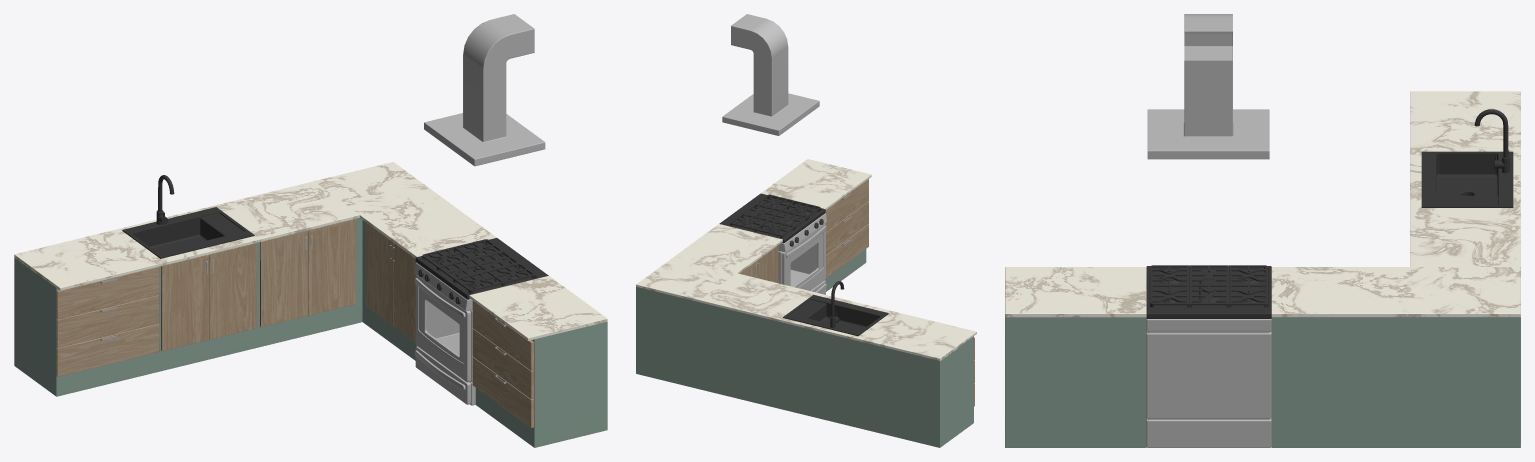
File: corner_kitchen_cabinet.glb
3 renders of one model, left to right at view 1: azimuth 30°, elevation 25°; view 2: azimuth 150°, elevation 25°; view 3: azimuth 270°, elevation 25°, orthographic. The views are drawn at different scales.
Visible parts, largest first — view 1: Cabinet for kitchen corner, stove-air, Door 2.001, Door 3.001, Door 2, Door 3, sink, Door 1, Door 1.002, stove-door, Door 1.001, stove-body.003 (+8 smaller); view 2: Cabinet for kitchen corner, stove-air, sink, stove-body.003, stove-body.001, stove-door, stove-body, Door 5, Door 5.002, Door 5.001, Door 4.001; view 3: Cabinet for kitchen corner, stove-body, stove-air, sink, stove-body.003, stove-body.001, stove-body.002.
Part boxes in pixels (left/top/right/bottom): Cabinet for kitchen corner: left=14, top=162, right=607, bottom=447; stove-air: left=424, top=14, right=545, bottom=166; Door 2.001: left=161, top=254, right=209, bottom=351; Door 3.001: left=308, top=219, right=355, bottom=315; Door 2: left=209, top=243, right=256, bottom=339; Door 3: left=260, top=230, right=307, bottom=327; sink: left=122, top=207, right=254, bottom=258; Door 1: left=56, top=323, right=159, bottom=376; Door 1.002: left=56, top=295, right=159, bottom=348; stove-door: left=414, top=275, right=470, bottom=382; Door 1.001: left=56, top=267, right=159, bottom=319; stove-body.003: left=415, top=238, right=548, bottom=299; Cabinet for kitchen corner: left=636, top=159, right=976, bottom=447; stove-air: left=722, top=14, right=819, bottom=135; sink: left=783, top=294, right=888, bottom=336; stove-body.003: left=719, top=193, right=825, bottom=242; stove-body.001: left=730, top=194, right=820, bottom=238; stove-door: left=781, top=223, right=826, bottom=290; stove-body: left=778, top=213, right=826, bottom=286; Door 5: left=826, top=224, right=868, bottom=277; Door 5.002: left=826, top=201, right=868, bottom=254; Door 5.001: left=825, top=179, right=868, bottom=231; Door 4.001: left=756, top=245, right=778, bottom=282; Cabinet for kitchen corner: left=1005, top=91, right=1520, bottom=447; stove-body: left=1146, top=318, right=1271, bottom=447; stove-air: left=1147, top=14, right=1269, bottom=159; sink: left=1421, top=151, right=1513, bottom=207; stove-body.003: left=1146, top=266, right=1271, bottom=318; stove-body.001: left=1150, top=265, right=1267, bottom=307; stove-body.002: left=1159, top=274, right=1259, bottom=302.
Size of the model in its own units: 3.22 by 2.8 by 3.14.
9 materials, 3 textured.
